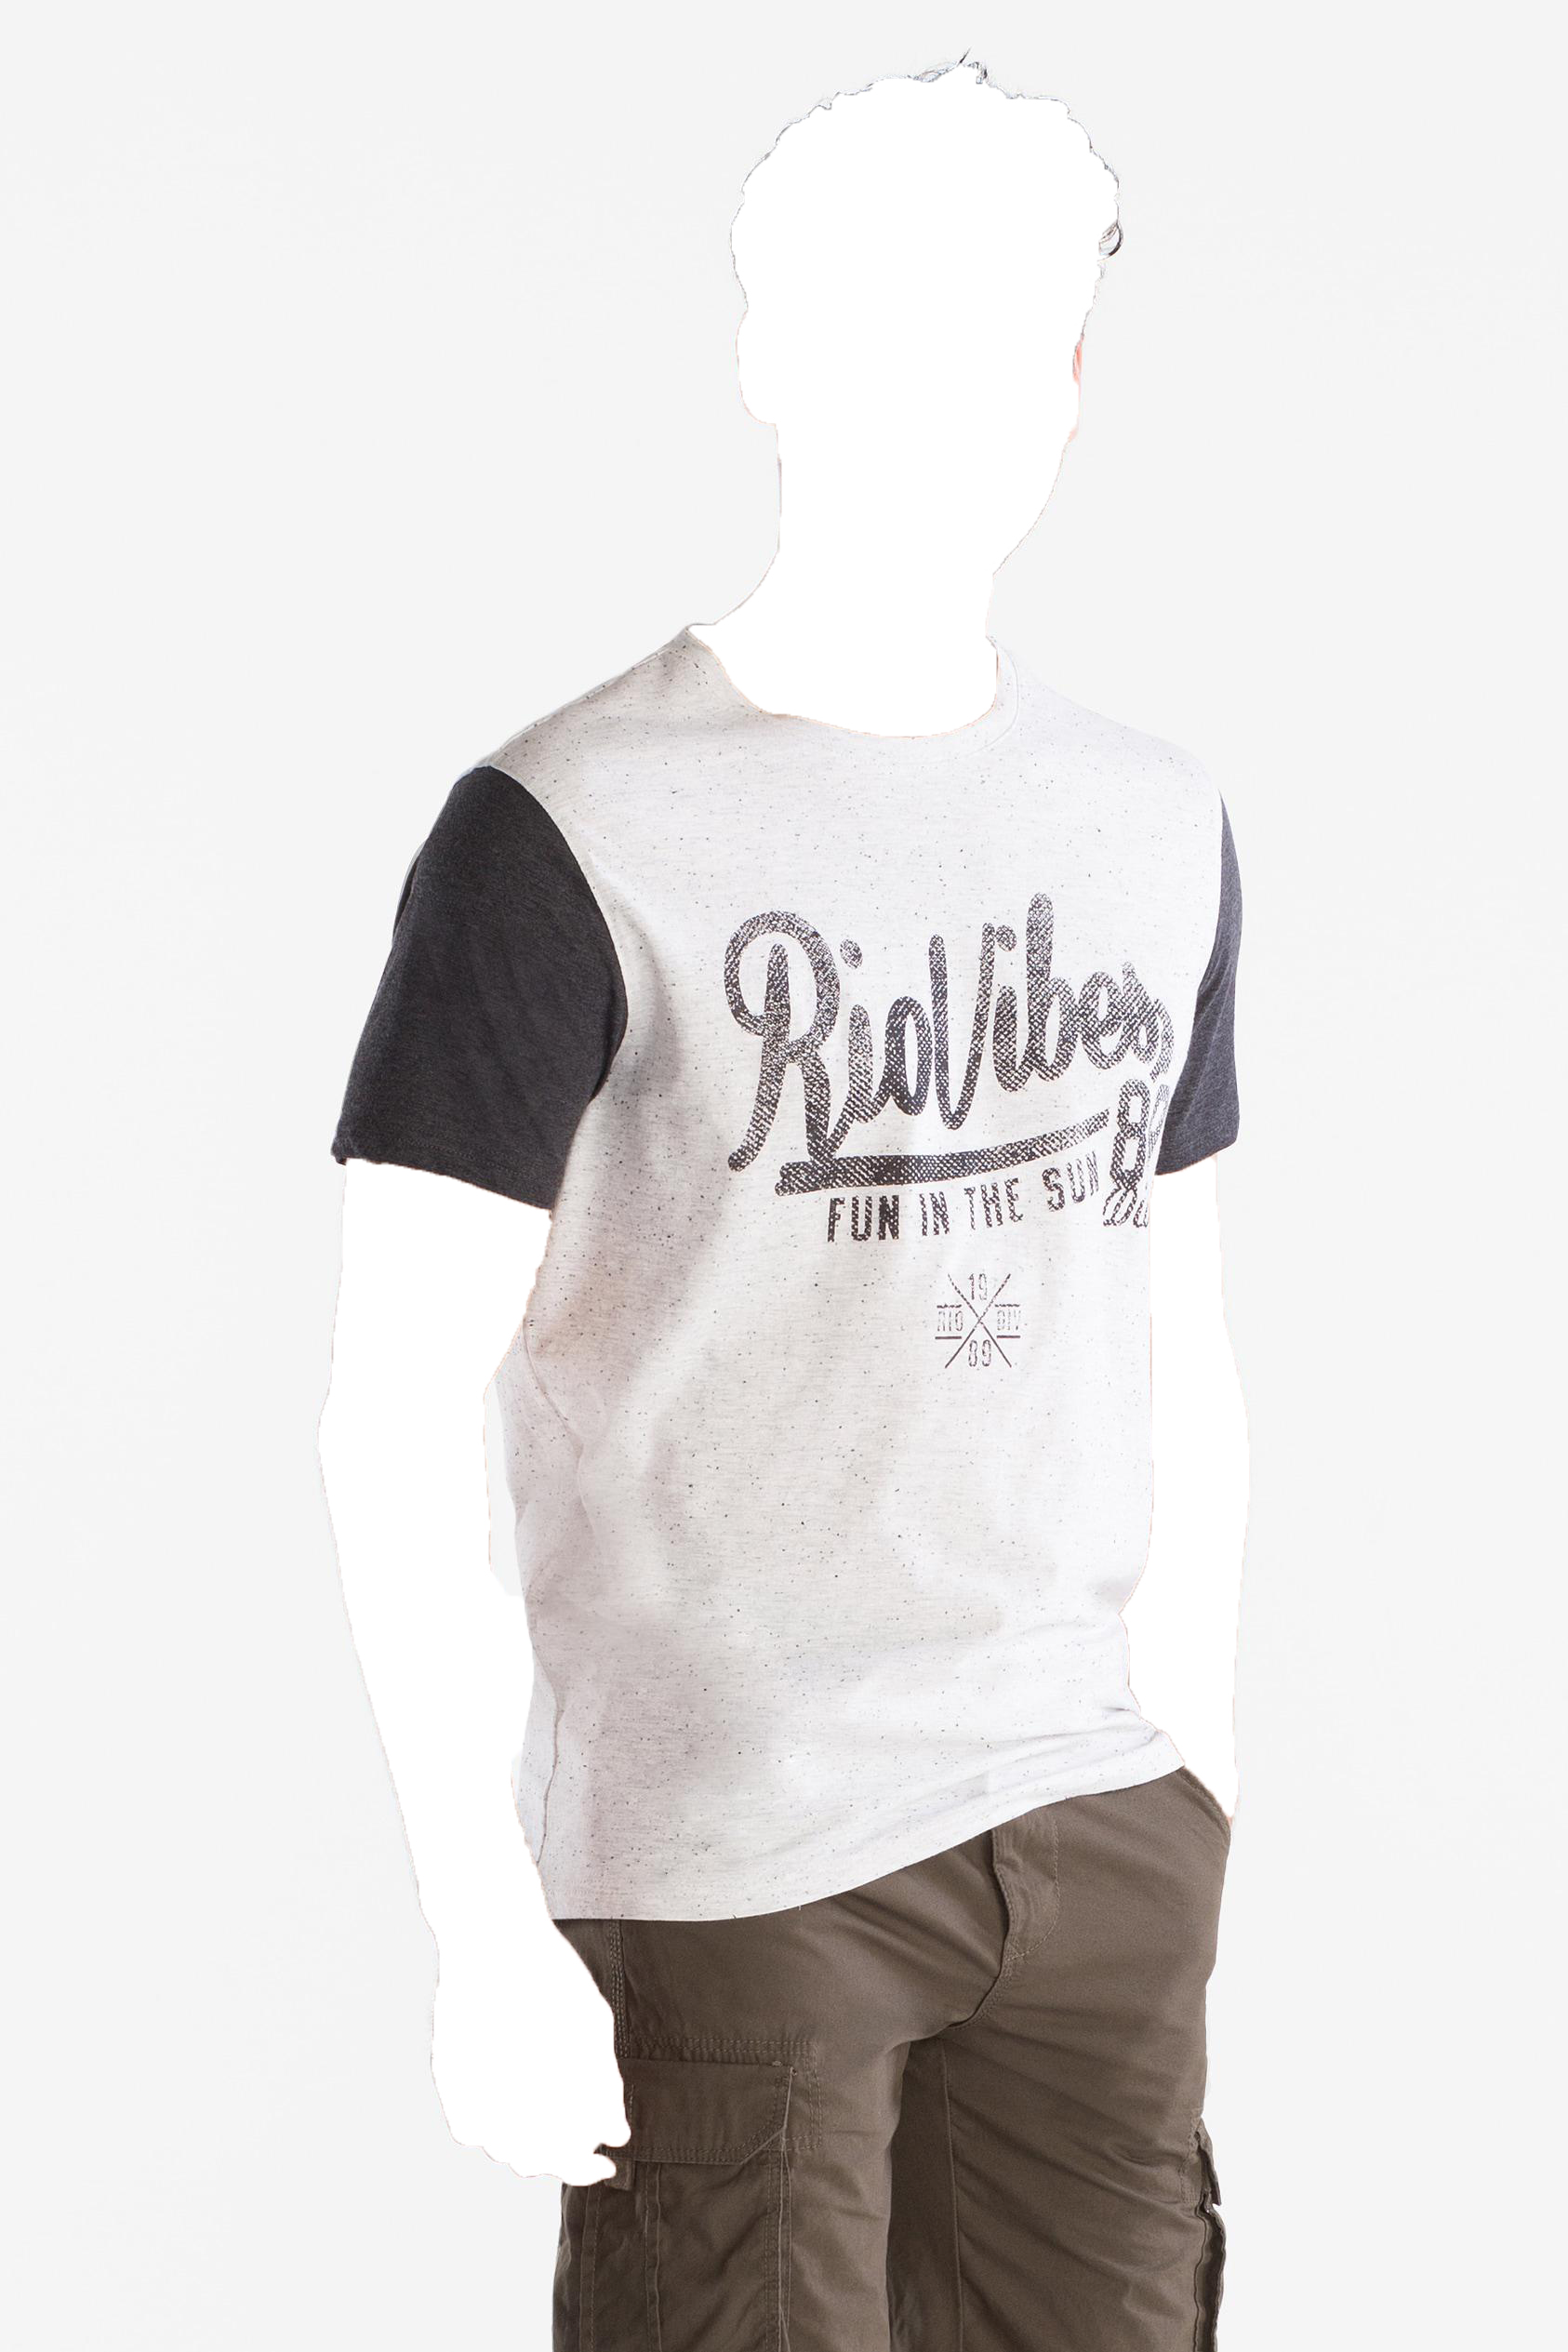teeshirt: (306, 607, 1461, 1927)
